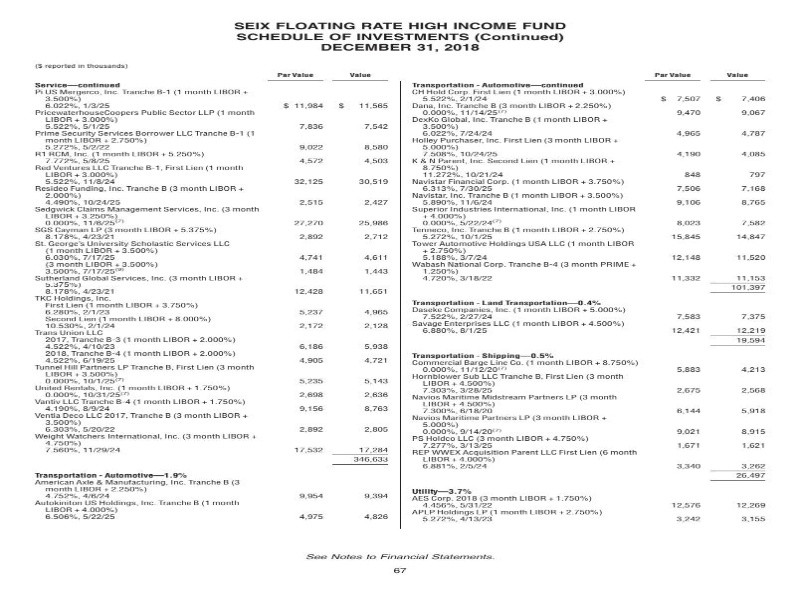table: (23, 57, 408, 545), (392, 65, 780, 536)
